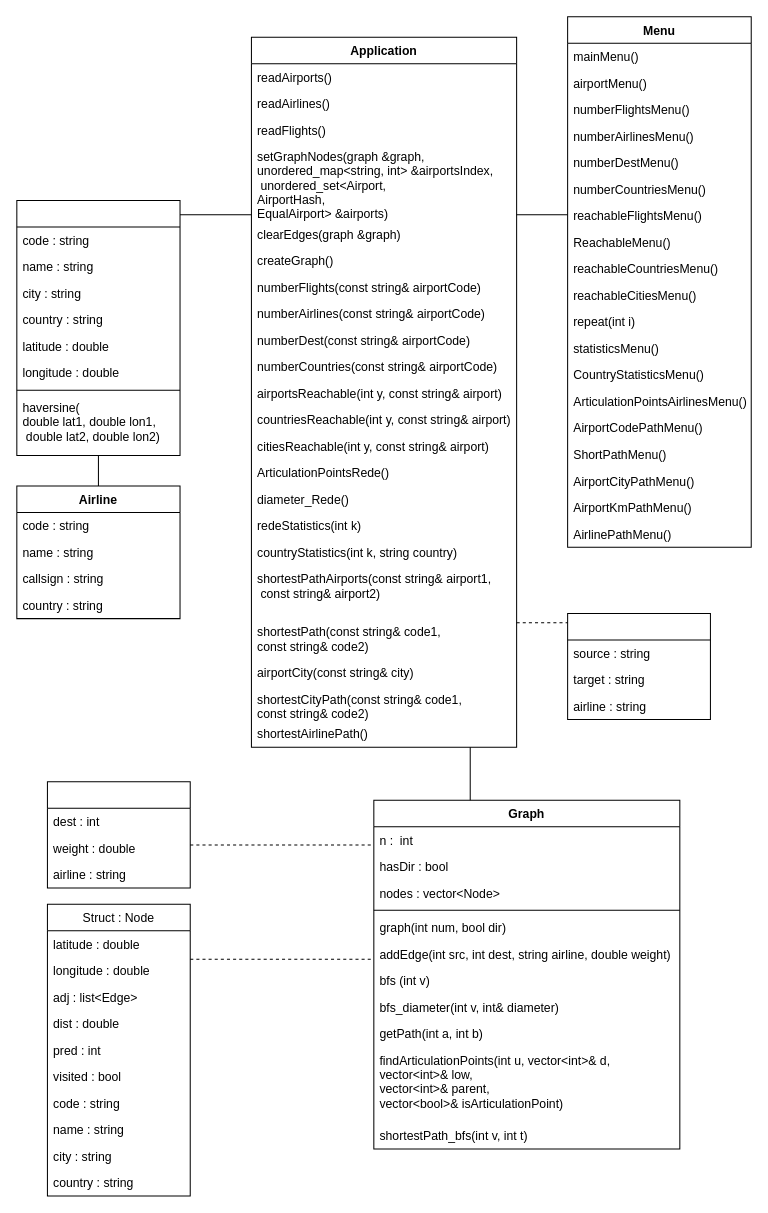
Some shapes in this 768 by 1213 pixel diagram are drawn without their labels. Each missing label, with the box of its shape:
Airport: (16, 199, 180, 455)
Struct : Edge: (46, 781, 190, 888)
Struct : Flights: (567, 613, 710, 720)
